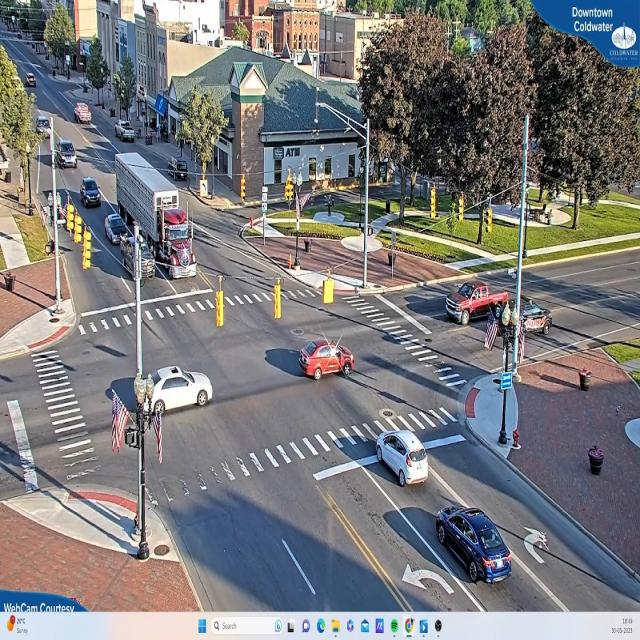car: (434, 506, 513, 586), (141, 366, 213, 414), (375, 429, 430, 487), (446, 285, 508, 326), (300, 342, 353, 381), (106, 214, 136, 243), (80, 178, 102, 209), (56, 141, 78, 170), (116, 123, 137, 143), (75, 104, 92, 125), (25, 76, 36, 89)
